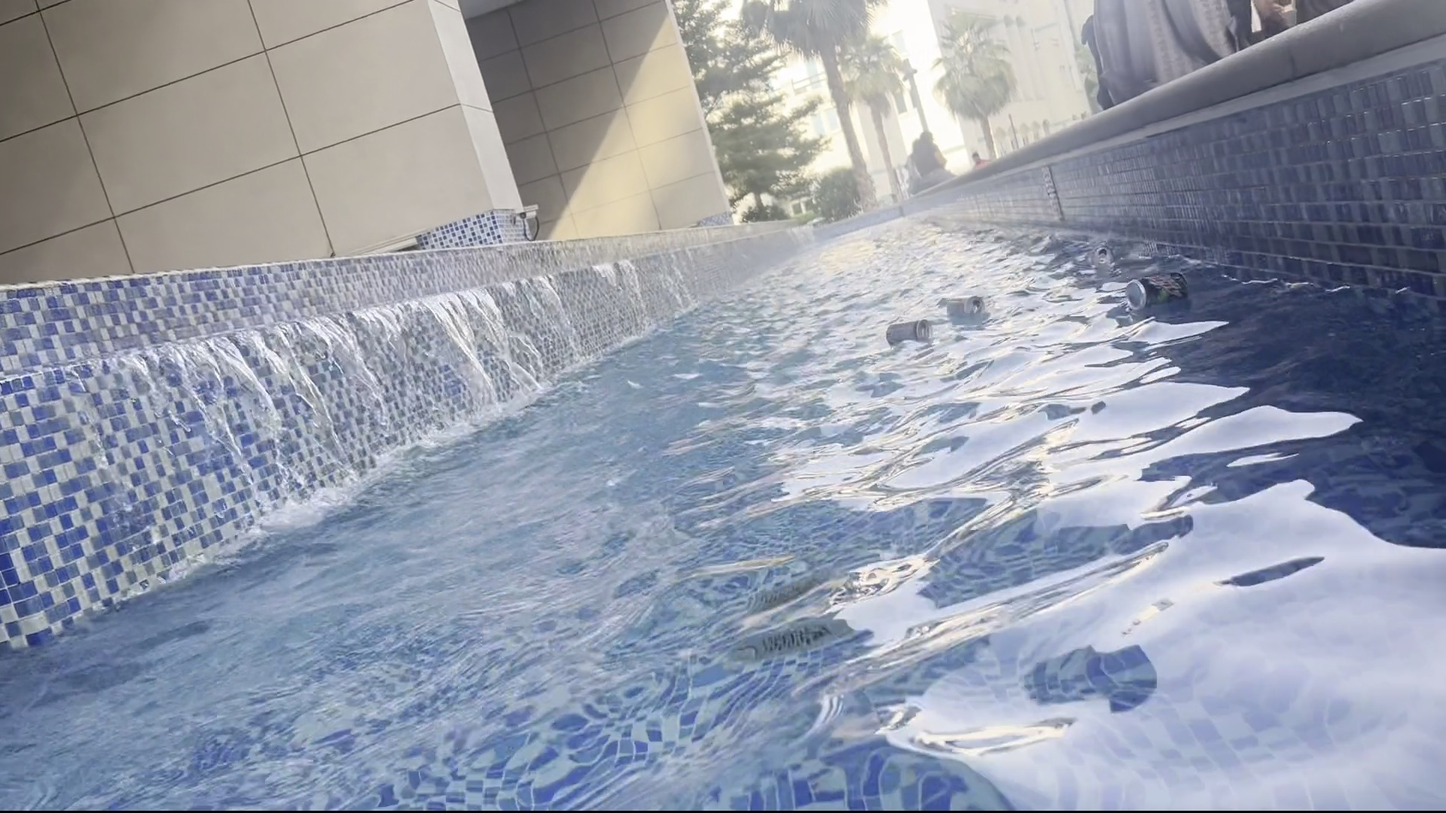debris: (1118, 269, 1196, 312), (1078, 236, 1123, 271), (882, 318, 935, 346), (940, 291, 988, 321)
